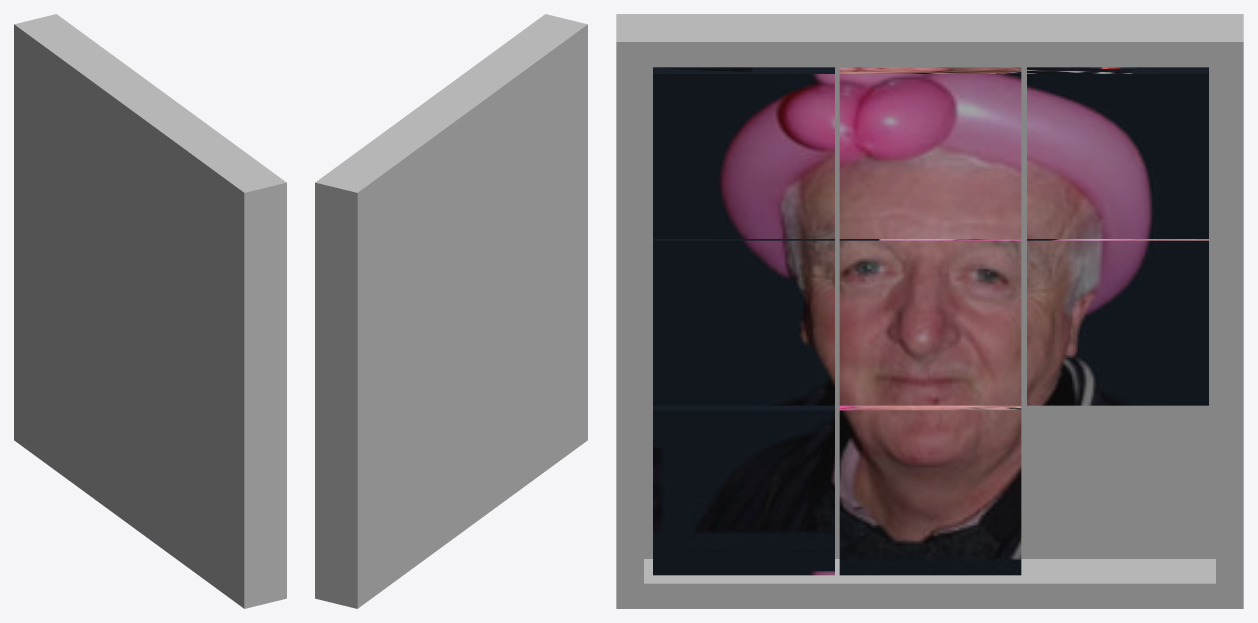
The model's file is Пятнашки.fbx.
3 views of the same model, side by side, from view 1: azimuth 30°, elevation 25°; view 2: azimuth 150°, elevation 25°; view 3: azimuth 270°, elevation 25° (orthographic). The views are drawn at different scales.
Visible parts, largest first — view 1: Куб; view 2: Куб; view 3: Куб, Куб.001, Куб.002, Куб.003, Куб.006, Куб.008, Куб.009, Куб.004, Куб.005.
Part boxes in pixels (x1,y1,x2,y2): Куб: (14, 14, 286, 608); Куб: (315, 14, 587, 608); Куб: (616, 14, 1243, 608); Куб.001: (839, 67, 1021, 238); Куб.002: (1027, 67, 1208, 238); Куб.003: (653, 67, 834, 238); Куб.006: (839, 405, 1021, 575); Куб.008: (653, 405, 834, 575); Куб.009: (839, 239, 1021, 405); Куб.004: (653, 239, 834, 405); Куб.005: (1027, 239, 1208, 405).
Bounding box in the file's own units: 18.23 × 163 × 164.
